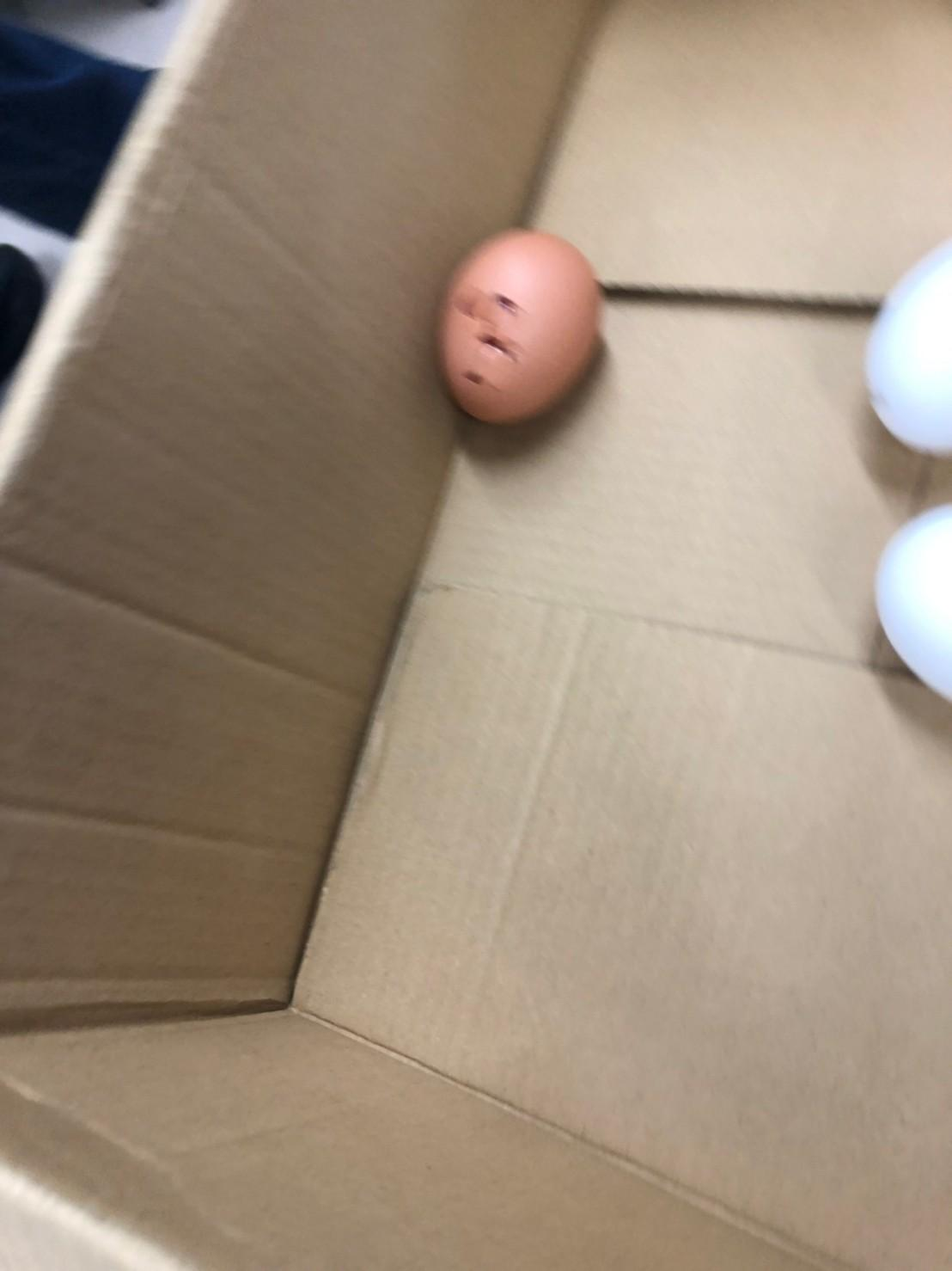egg: (438, 218, 608, 429)
